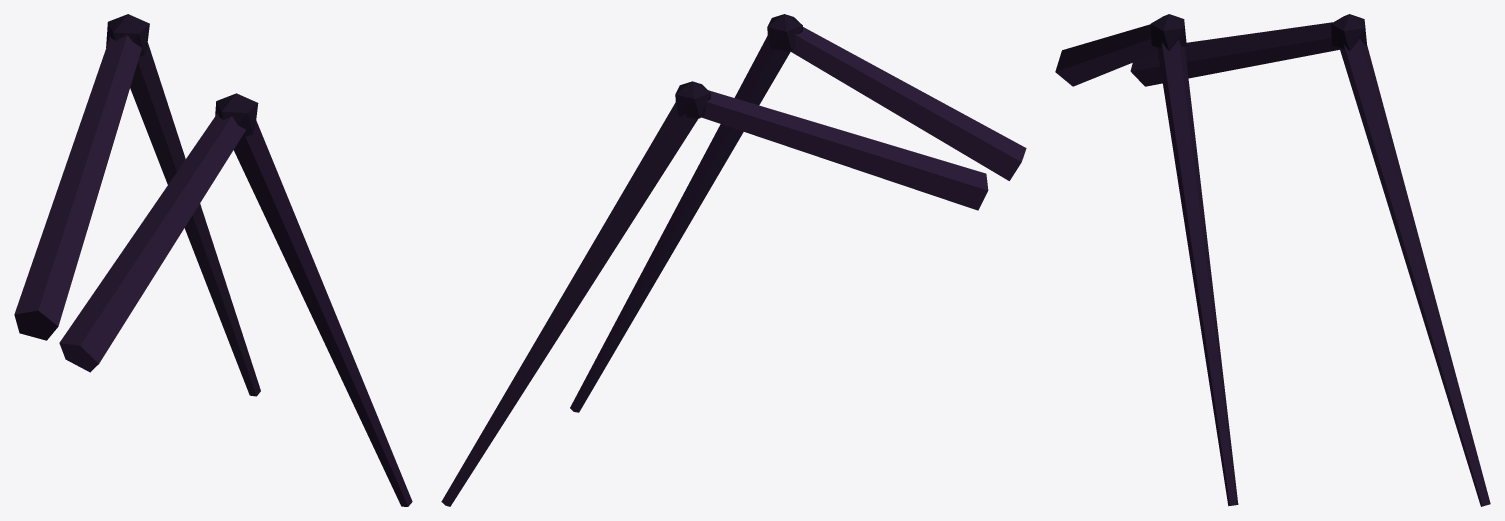
File: spider_4_leg_bl.glb
3 views of the same model, side by side, from view 1: azimuth 30°, elevation 25°; view 2: azimuth 150°, elevation 25°; view 3: azimuth 270°, elevation 25° (orthographic). The views are drawn at different scales.
Parts seen in each view (by area): view 1: spider_4_leg_bl; view 2: spider_4_leg_bl; view 3: spider_4_leg_bl.
Boxes of the visible parts, box(x1,y1,x2,y2) form: spider_4_leg_bl: box(14, 14, 412, 506); spider_4_leg_bl: box(441, 14, 1026, 506); spider_4_leg_bl: box(1055, 14, 1490, 506).
Size of the model in its own units: 0.639 by 0.6754 by 0.6519.
